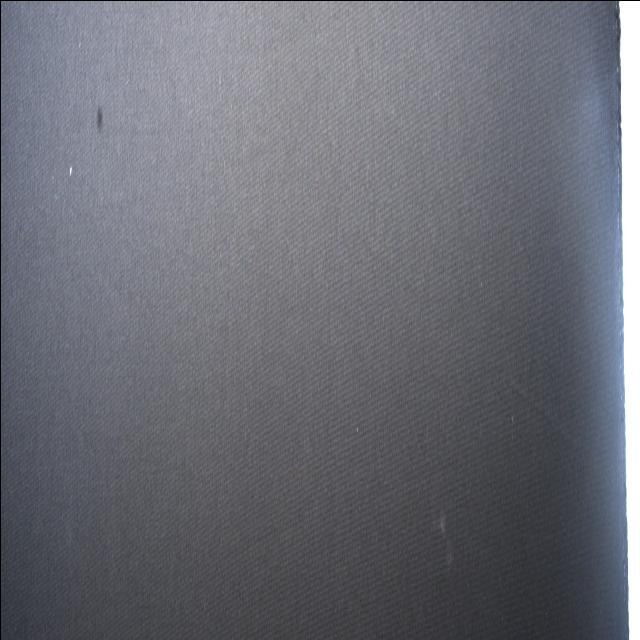whiteDefect: (424, 446, 456, 581), (68, 161, 73, 177), (78, 37, 81, 52)
